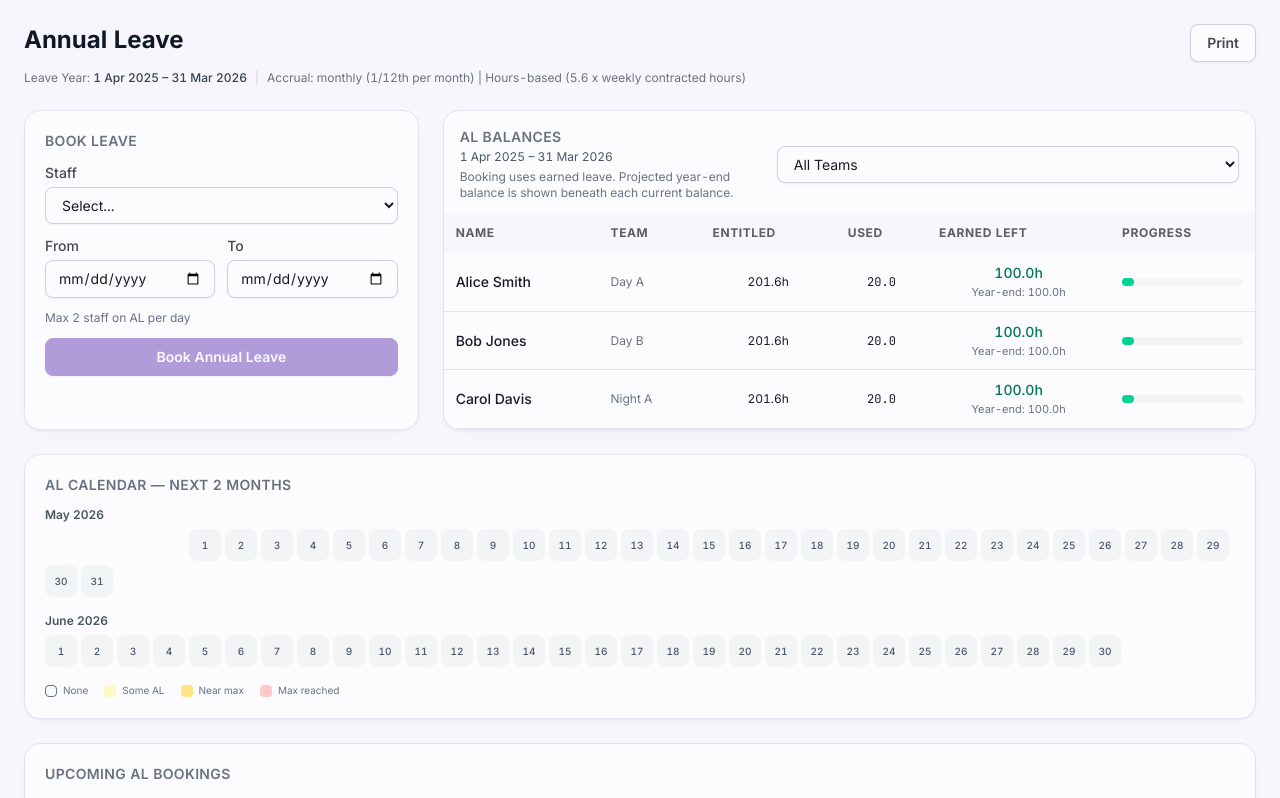
Test: AnnualLeave › booking failure keeps the form mounted and shows error inline
The width and height of the screenshot is (1280, 798).
Expected: the heading "Book Leave" is shown, [45,132,137,149]
Select "Alice Smith (Day A) — 100.0h earned left" in the dropdown labelled "Staff": (221, 206) [45,187,398,224]
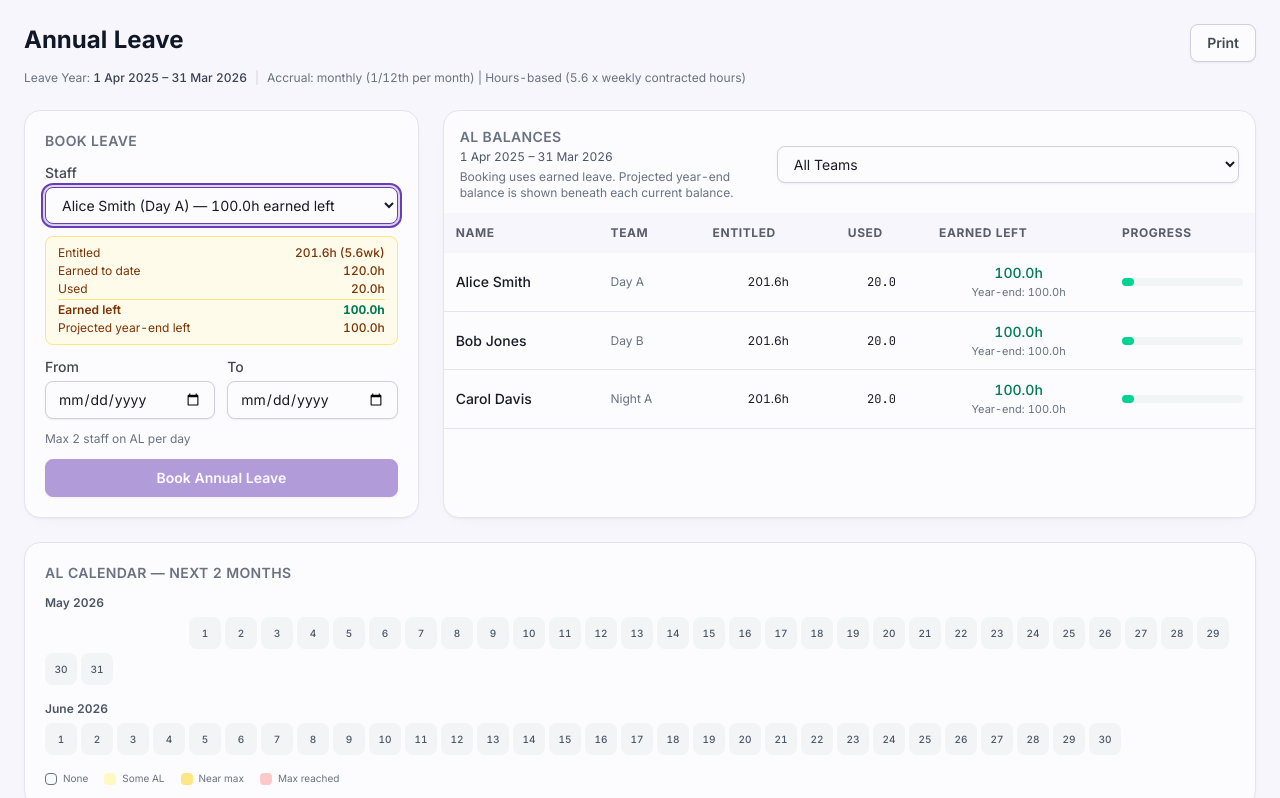
In the date field labelled "From": (130, 400) [45,381,215,419], type "2026-03-10"
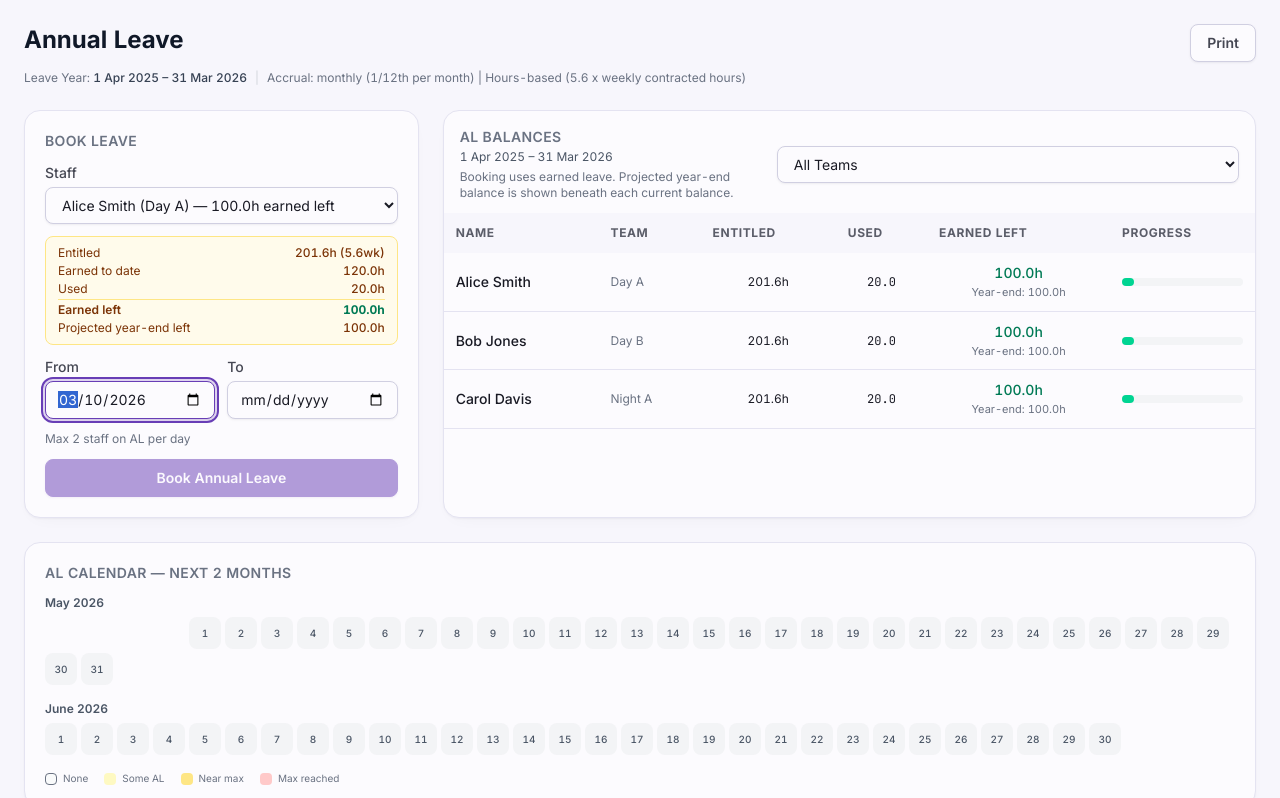
In the date field labelled "To": (312, 400) [227,381,398,419], type "2026-03-10"
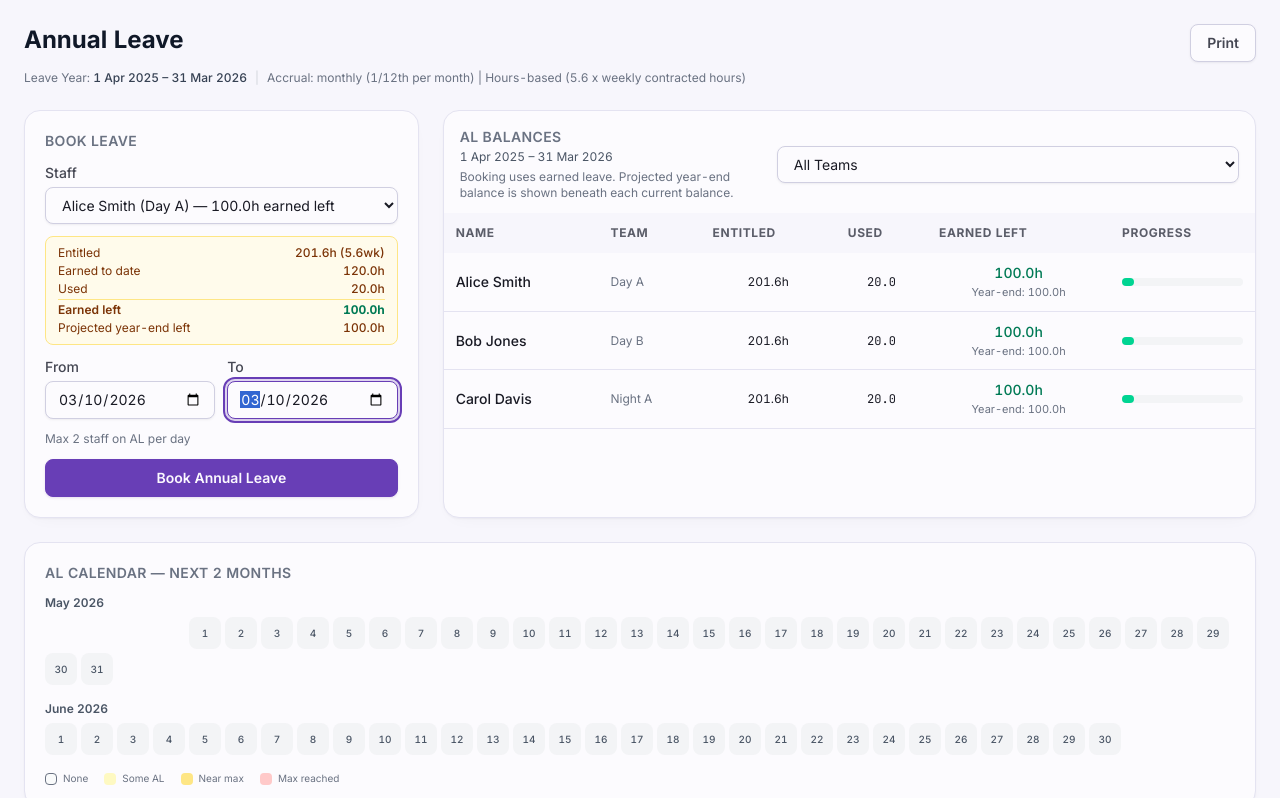
Now the button "Book Annual Leave" is enabled
Click the button "Book Annual Leave": click(221, 478) [45,459,398,497]
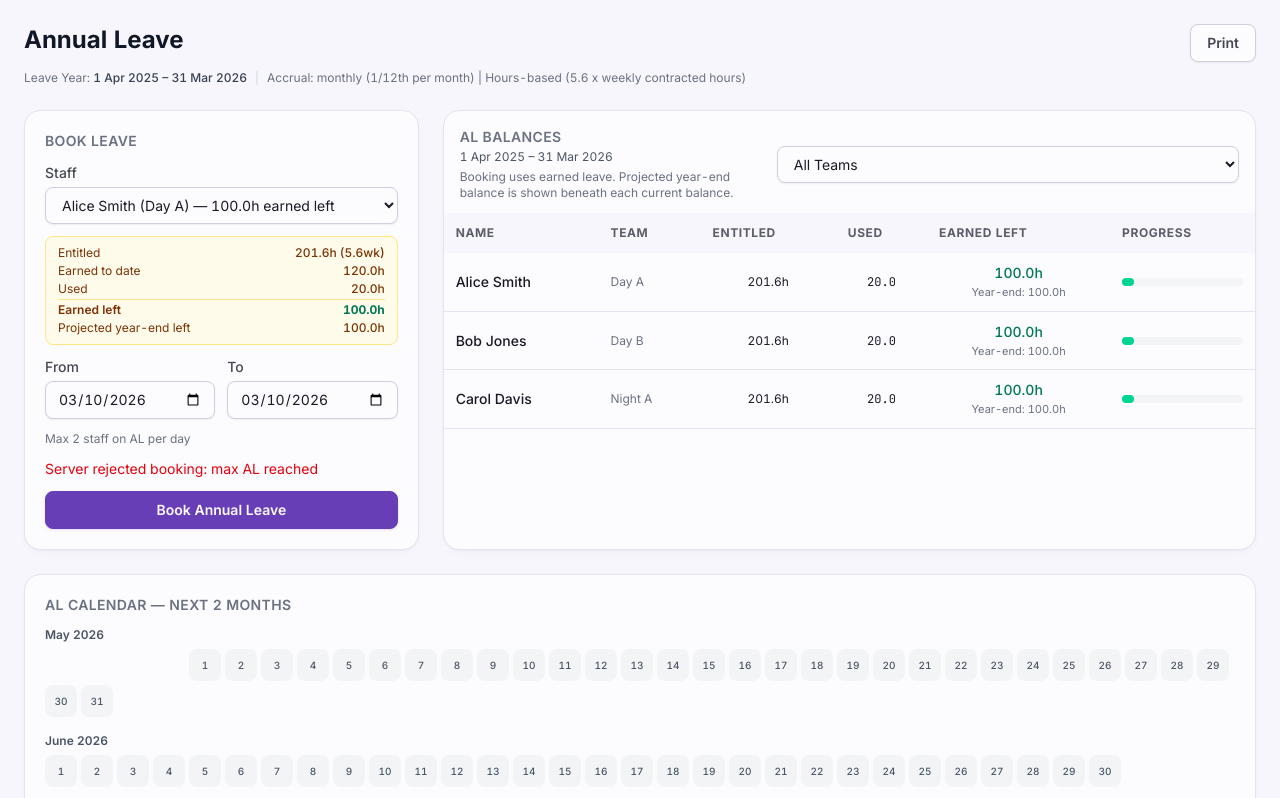
Expected: the heading "Book Leave" is shown, [45,132,137,149]
Now the text "Server rejected booking: max AL reached" is shown, box [45,460,318,477]
